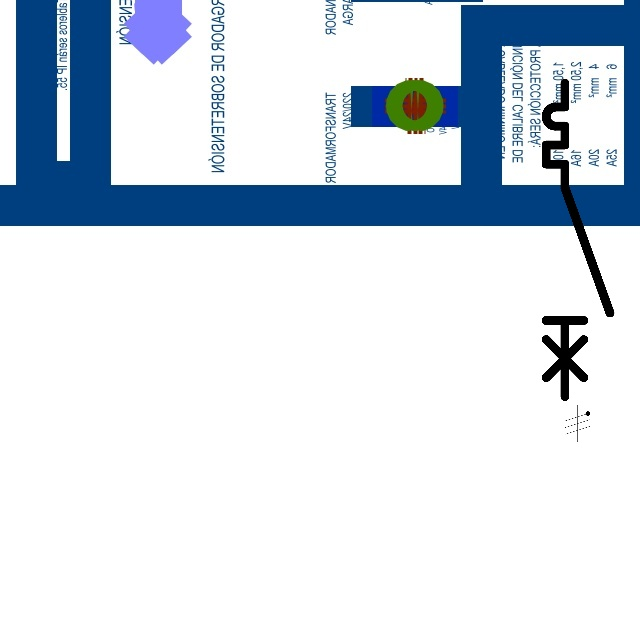interruptor_termomagnetico: (538, 75, 618, 404)
